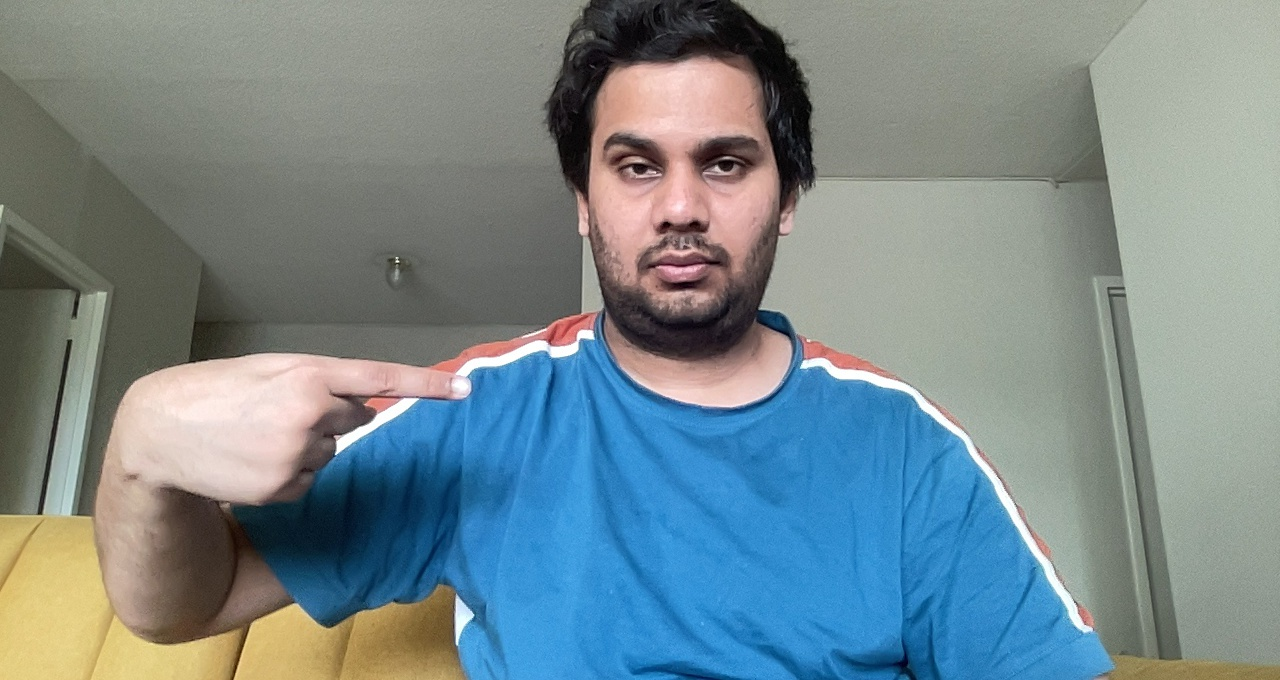fingerleft: (90, 343, 479, 515)
